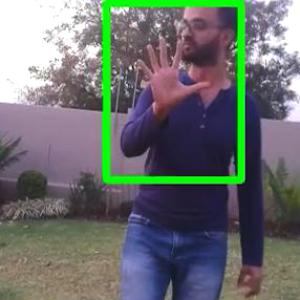follow_hand: (132, 31, 213, 110)
